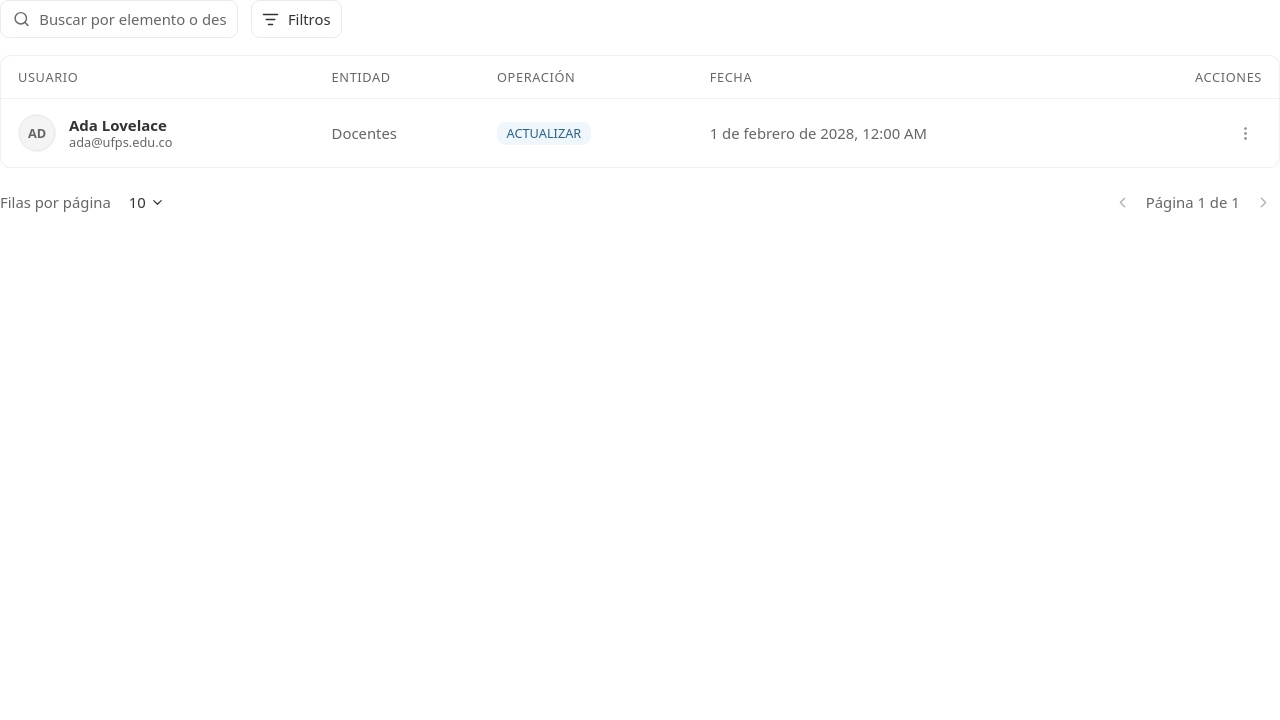
Scenario: LogsList › opens the detail drawer for a row and shows its element data
Click the button named "Acciones" at [1245, 133], box [1228, 116, 1262, 150]
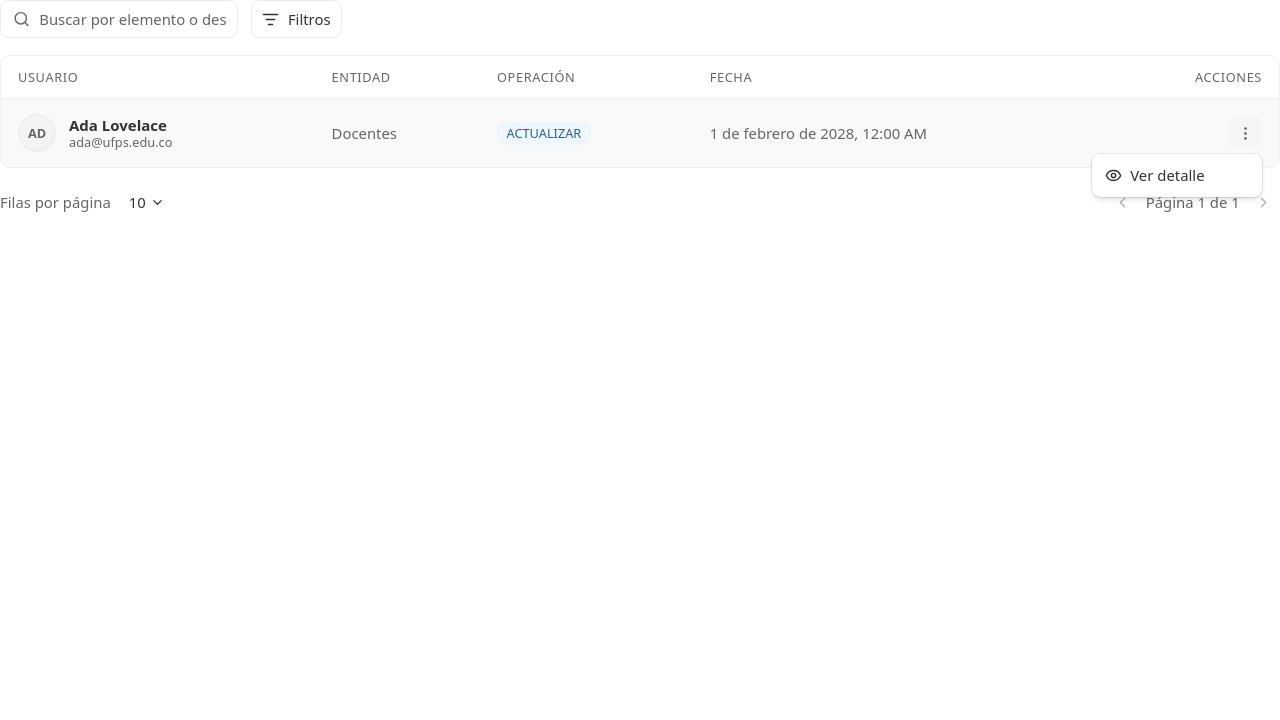
Click the menu item "Ver detalle" at [1155, 175], box [1105, 165, 1205, 185]
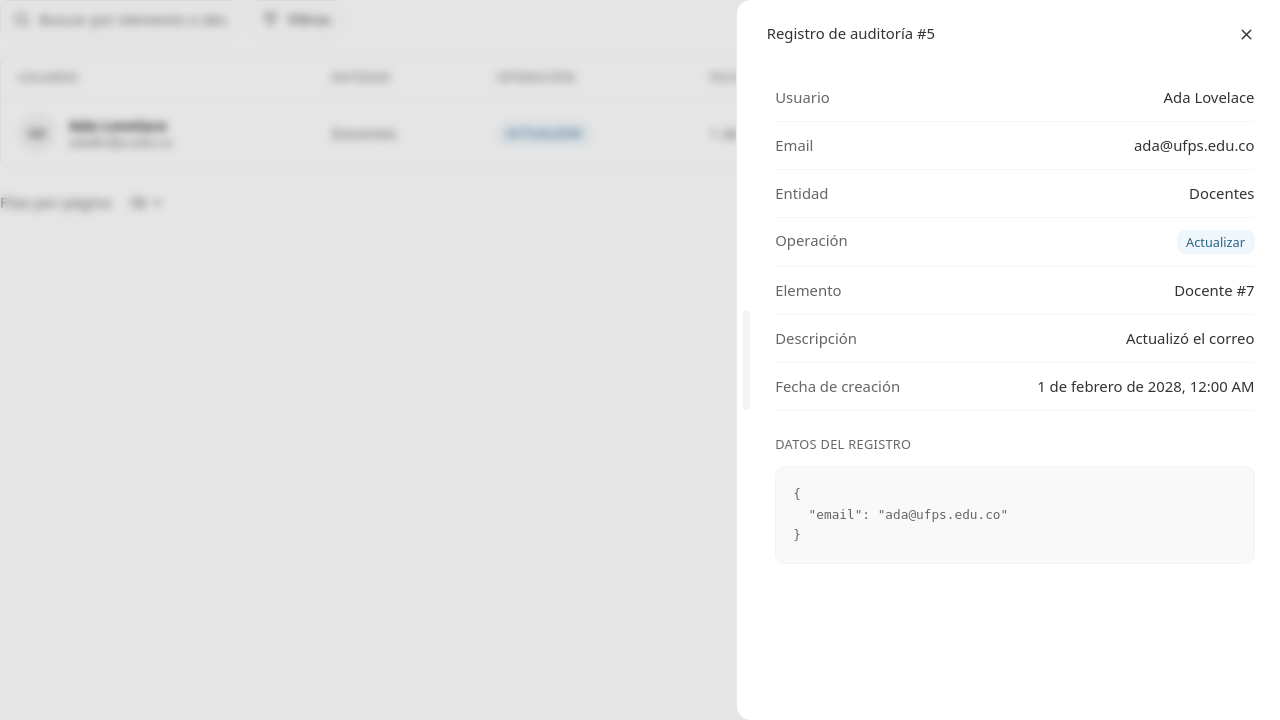
Now the heading "Registro de auditoría #5" is shown, box [767, 23, 935, 43]
Now the text "Actualizó el correo" is shown, box [1126, 328, 1254, 349]
Now the text "{ \"email\": \"ada@ufps.edu.co\" }" is shown, box [775, 466, 1255, 564]
